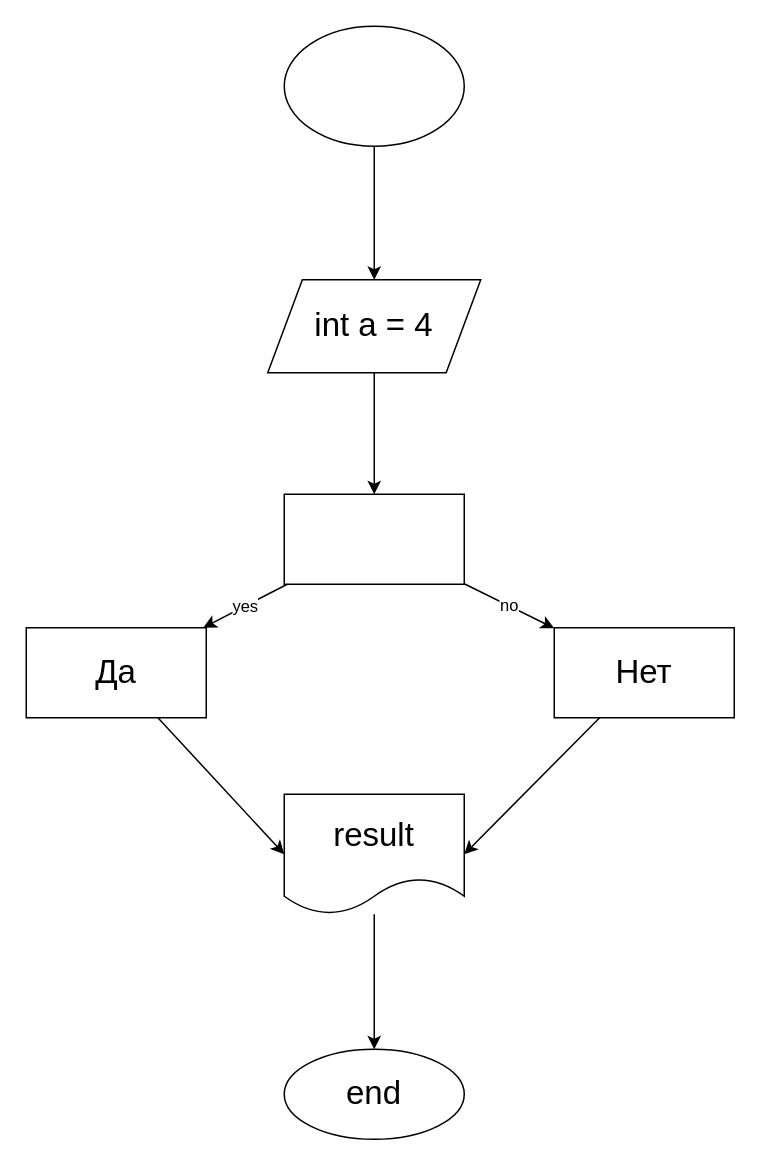
The diagram is 761 pixels wide and 1166 high, and some of its shapes have lost their labels. Here are the shapes that lost their labels. From the top down, the centre of each, then its label:
point (373, 85): Start
point (373, 538): a % 2==0
